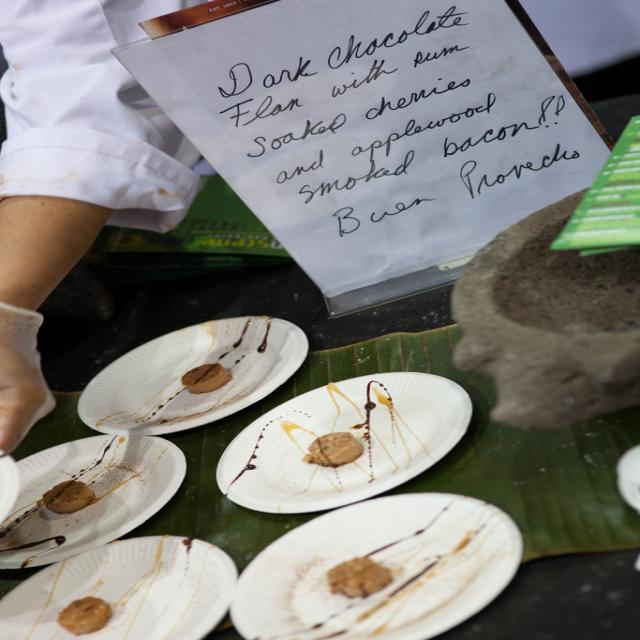non-organic waste: (254, 486, 541, 640), (244, 390, 464, 518), (66, 324, 316, 425)
